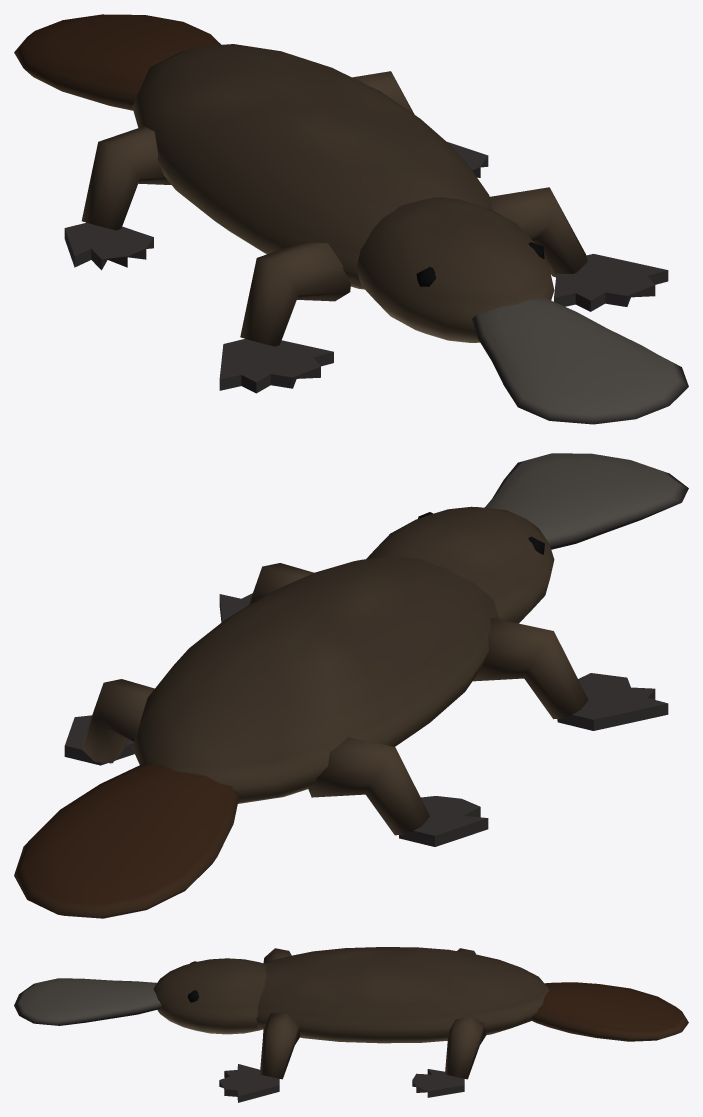
The model's file is ObdurodonDicksoni.fbx.
3 renders of one model, top to bottom at view 1: azimuth 30°, elevation 25°; view 2: azimuth 150°, elevation 25°; view 3: azimuth 270°, elevation 25°, orthographic. The views are drawn at different scales.
Parts seen in each view (by area): view 1: ObdurodonDicksoni; view 2: ObdurodonDicksoni; view 3: ObdurodonDicksoni.
Boxes of the visible parts, left/top/right/bottom form: ObdurodonDicksoni: left=14, top=14, right=688, bottom=424; ObdurodonDicksoni: left=14, top=453, right=688, bottom=918; ObdurodonDicksoni: left=14, top=947, right=688, bottom=1102.
Bounding box in the file's own units: 0.7517 × 0.222 × 1.68.
